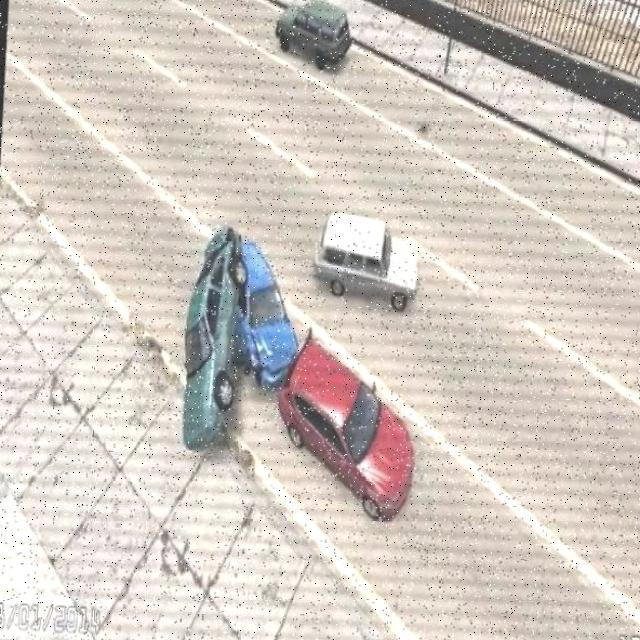accident: (222, 233, 429, 531), (178, 213, 306, 459)
